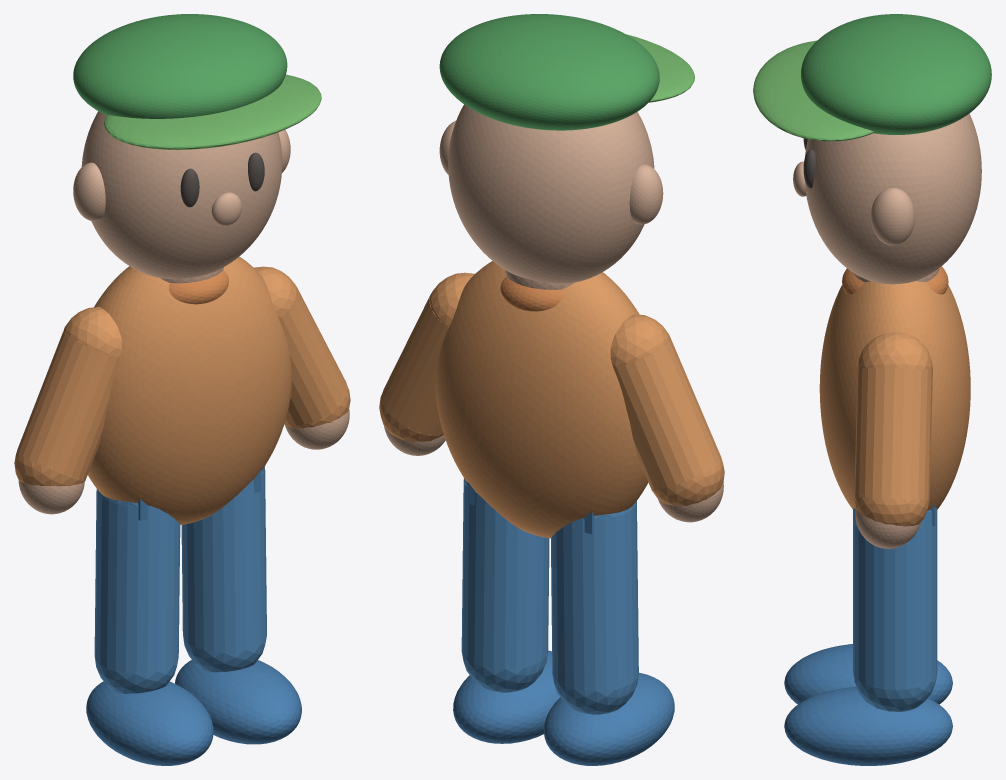
File: character.glb
The picture shows the model from 3 angles, left to right: view 1: azimuth 30°, elevation 25°; view 2: azimuth 150°, elevation 25°; view 3: azimuth 270°, elevation 25°; orthographic projection. The views are drawn at different scales.
Parts seen in each view (by area): view 1: torso_orange, head, cap_crown, leg_left, leg_right, arm_left, shoe_left, cap_brim, shoe_right, arm_right, arm_left_end0, ear_left (+9 smaller); view 2: torso_orange, head, cap_crown, leg_left, leg_right, arm_left, shoe_left, shoe_right, arm_right, arm_left_end0, cap_brim, leg_left_end1 (+8 smaller); view 3: head, cap_crown, torso_orange, leg_right, arm_right, shoe_right, cap_brim, shoe_left, arm_right_end0, ear_right, arm_right_end1, leg_right_end1 (+2 smaller).
Part boxes in pixels (left/top/right/bottom): torso_orange: left=88, top=256, right=291, bottom=524; head: left=81, top=111, right=282, bottom=278; cap_crown: left=73, top=14, right=287, bottom=118; leg_left: left=94, top=489, right=180, bottom=673; leg_right: left=181, top=470, right=266, bottom=652; arm_left: left=17, top=330, right=119, bottom=478; shoe_left: left=86, top=681, right=213, bottom=765; cap_brim: left=104, top=74, right=321, bottom=149; shoe_right: left=175, top=660, right=301, bottom=744; arm_right: left=279, top=286, right=347, bottom=425; arm_left_end0: left=63, top=307, right=121, bottom=357; ear_left: left=73, top=162, right=105, bottom=221; torso_orange: left=435, top=261, right=648, bottom=538; head: left=448, top=104, right=654, bottom=283; cap_crown: left=439, top=14, right=659, bottom=130; leg_left: left=551, top=501, right=638, bottom=690; leg_right: left=461, top=481, right=549, bottom=669; arm_left: left=613, top=338, right=721, bottom=489; shoe_left: left=544, top=672, right=674, bottom=765; shoe_right: left=453, top=650, right=560, bottom=743; arm_right: left=382, top=293, right=448, bottom=433; arm_left_end0: left=610, top=314, right=670, bottom=367; cap_brim: left=626, top=34, right=694, bottom=102; leg_left_end1: left=552, top=673, right=638, bottom=714; head: left=805, top=113, right=981, bottom=284; cap_crown: left=801, top=14, right=991, bottom=134; torso_orange: left=819, top=281, right=970, bottom=510; leg_right: left=853, top=508, right=937, bottom=689; arm_right: left=854, top=367, right=932, bottom=499; shoe_right: left=784, top=687, right=952, bottom=765; cap_brim: left=753, top=40, right=874, bottom=141; shoe_left: left=784, top=644, right=952, bottom=704; arm_right_end0: left=857, top=332, right=932, bottom=369; ear_right: left=871, top=188, right=915, bottom=245; arm_right_end1: left=854, top=494, right=929, bottom=526; leg_right_end1: left=853, top=673, right=937, bottom=711.
Bounding box in the file's own units: 1.7 × 3.48 × 1.07.
